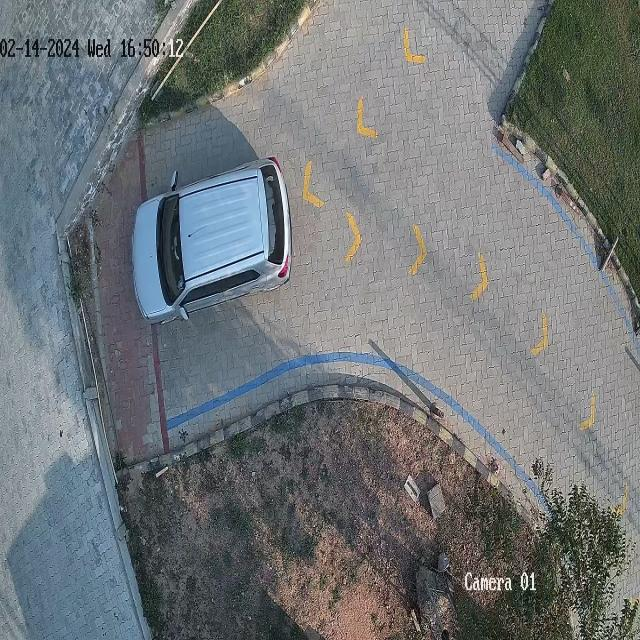car: (131, 158, 292, 324)
